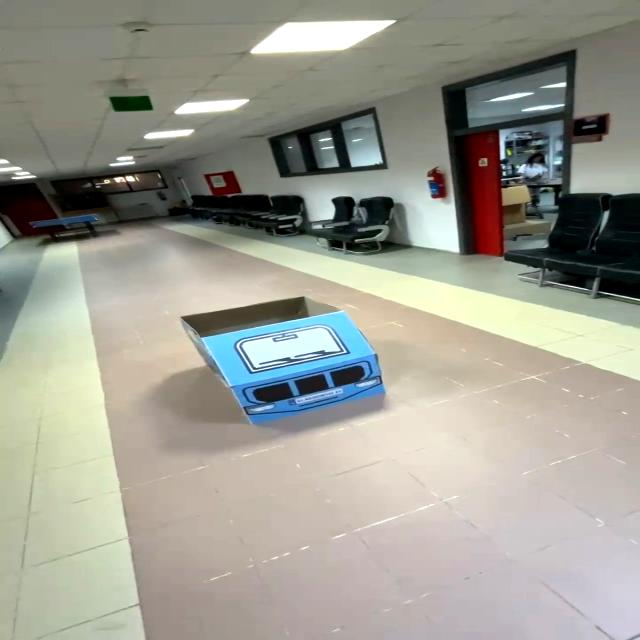blue_car: (162, 289, 417, 433)
